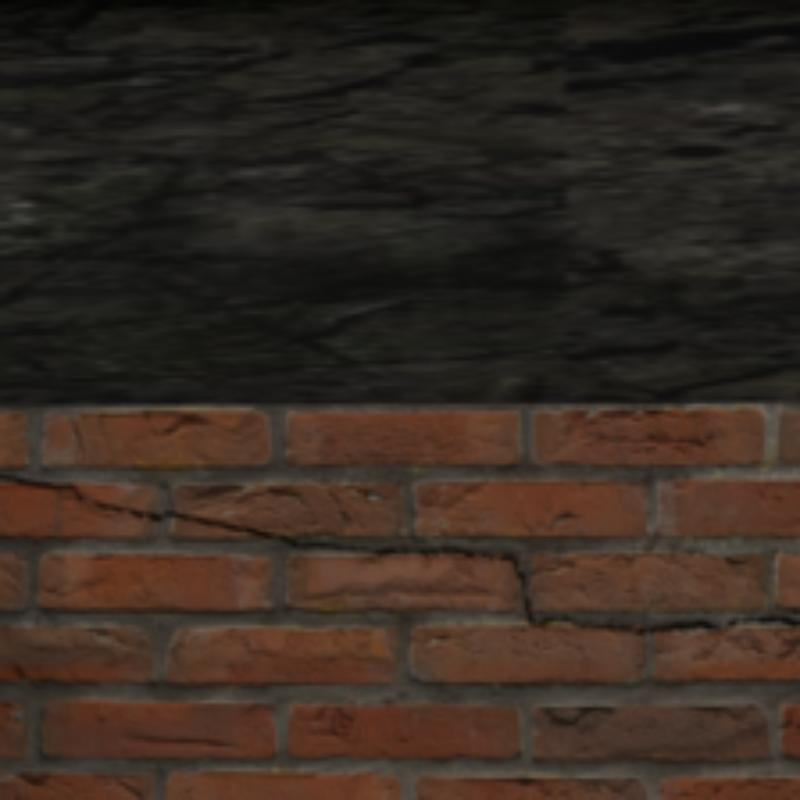crack: (0, 471, 796, 632), (543, 707, 607, 725)
